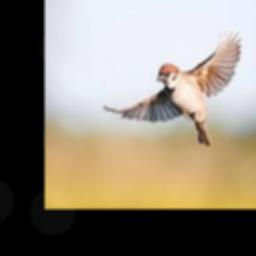Sparrow: (103, 28, 242, 145)
